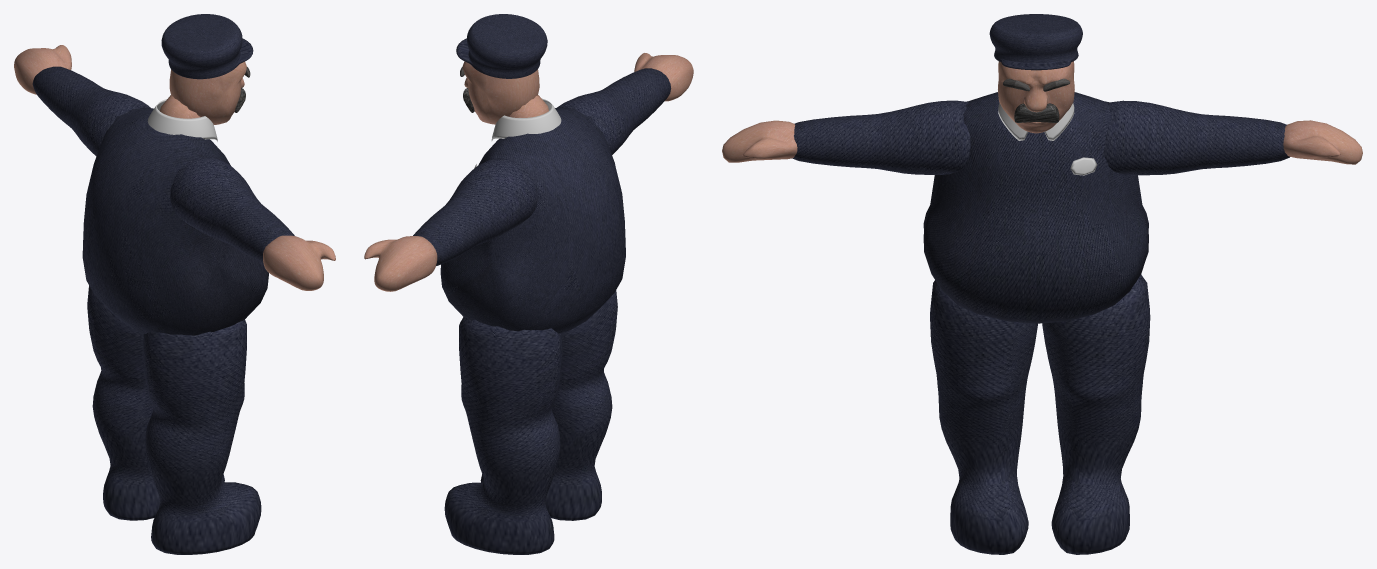
The model's file is wachmannTexturiert.fbx.
3 renders of one model, left to right at view 1: azimuth 30°, elevation 25°; view 2: azimuth 150°, elevation 25°; view 3: azimuth 270°, elevation 25°, orthographic. The views are drawn at different scales.
Visible parts, largest first — view 1: rumpf, beinR, beinL, armR, armL, hut, handR, kopf, handL, kragen, hals; view 2: rumpf, beinL, beinR, armL, hut, armR, handL, kopf, handR, kragen, hals; view 3: rumpf, beinL, beinR, armL, armR, hut, kopf, handL, handR, kragen.
Boxes of the visible parts, <box> form: rumpf: <box>82,107,268,335</box>; beinR: <box>143,319,261,554</box>; beinL: <box>87,285,224,520</box>; armR: <box>170,156,294,261</box>; armL: <box>32,66,150,156</box>; hut: <box>161,14,253,79</box>; handR: <box>263,235,335,290</box>; kopf: <box>169,61,246,124</box>; handL: <box>14,45,71,94</box>; kragen: <box>147,99,217,141</box>; hals: <box>160,95,200,118</box>; rumpf: <box>440,107,625,333</box>; beinL: <box>444,317,562,554</box>; beinR: <box>480,290,617,520</box>; armL: <box>413,157,537,265</box>; hut: <box>456,14,547,78</box>; armR: <box>557,68,671,154</box>; handL: <box>364,236,437,291</box>; kopf: <box>462,61,539,124</box>; handR: <box>634,53,693,101</box>; kragen: <box>491,98,561,141</box>; hals: <box>509,95,548,117</box>; rumpf: <box>923,92,1148,323</box>; beinL: <box>1042,274,1150,554</box>; beinR: <box>930,280,1037,554</box>; armL: <box>1104,100,1289,175</box>; armR: <box>792,100,970,174</box>; hut: <box>989,14,1082,70</box>; kopf: <box>998,61,1074,133</box>; handL: <box>1283,120,1362,164</box>; handR: <box>722,120,797,162</box>; kragen: <box>998,103,1074,140</box>.
Bounding box in the file's own units: 5.88 × 18.29 × 20.3.
Materials: 4 (3 with a texture image).
